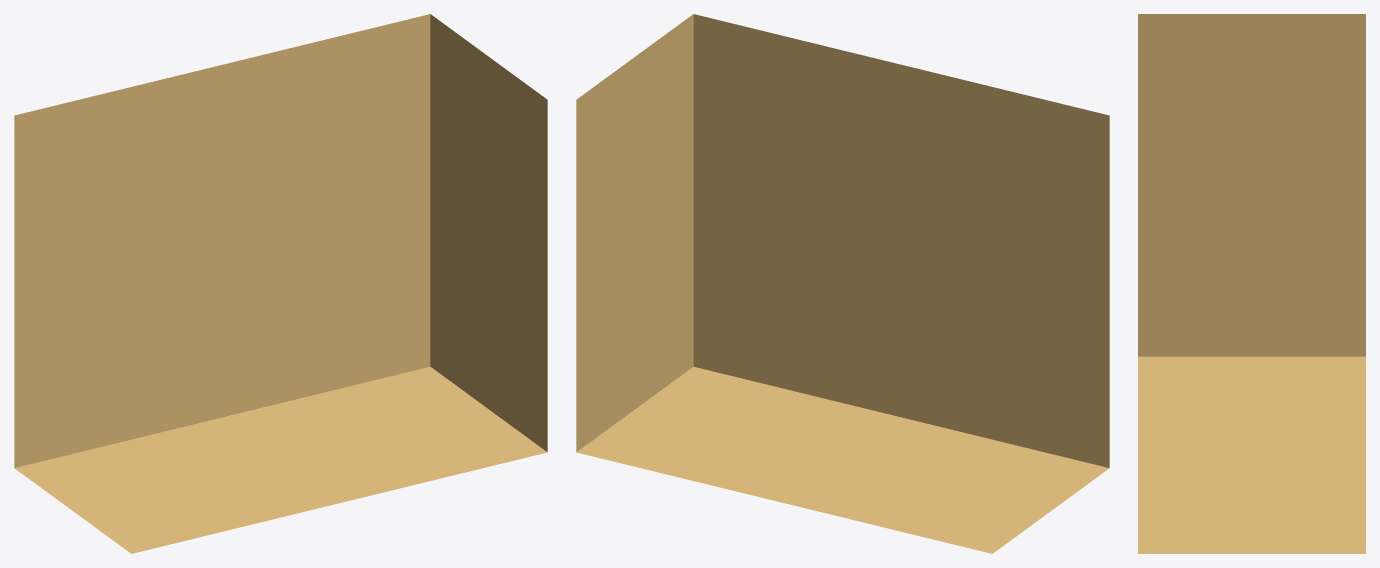
The model's file is drone-planning-sci-fi-galactic-portal-004.glb.
3 views of the same model, side by side, from view 1: azimuth 30°, elevation 25°; view 2: azimuth 150°, elevation 25°; view 3: azimuth 270°, elevation 25° (orthographic). The views are drawn at different scales.
Visible parts, largest first — view 1: Sci-Fi Galactic Portal Drone Planning; view 2: Sci-Fi Galactic Portal Drone Planning; view 3: Sci-Fi Galactic Portal Drone Planning.
Part boxes in pixels (x1,y1,x2,y2): Sci-Fi Galactic Portal Drone Planning: (14, 14, 547, 553); Sci-Fi Galactic Portal Drone Planning: (576, 14, 1109, 553); Sci-Fi Galactic Portal Drone Planning: (1138, 14, 1365, 553).
Size of the model in its own units: 2.05 by 1.66 by 1.
